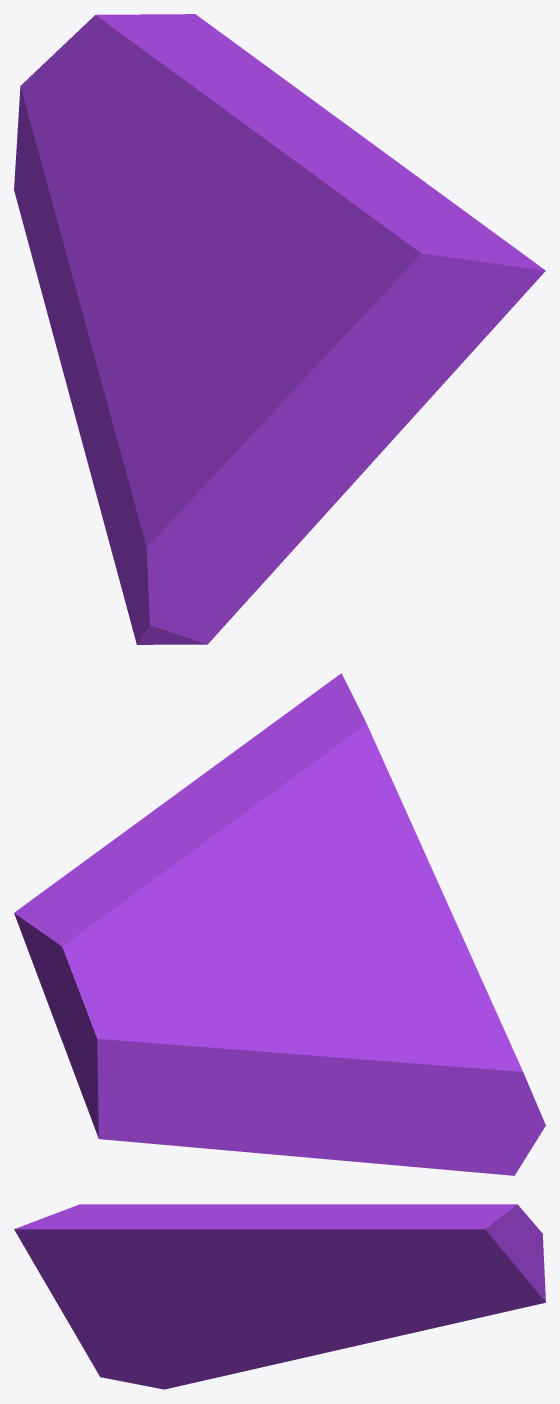
The model's file is Window_116_2_chunks.fbx.
3 views of the same model, one above another, from view 1: azimuth 30°, elevation 25°; view 2: azimuth 150°, elevation 25°; view 3: azimuth 270°, elevation 25° (orthographic). The views are drawn at different scales.
Visible parts, largest first — view 1: Window_116_2_2, Window_116_2_0, Window_116_2_1, Window_116_2_3; view 2: Window_116_2_0, Window_116_2_2, Window_116_2_1, Window_116_2_3; view 3: Window_116_2_3, Window_116_2_2, Window_116_2_1, Window_116_2_0.
Part boxes in pixels (box(x1,y1,x2,y2)): Window_116_2_2: box(158, 138, 545, 493); Window_116_2_0: box(14, 14, 193, 431); Window_116_2_1: box(79, 344, 343, 644); Window_116_2_3: box(133, 14, 385, 226); Window_116_2_0: box(44, 904, 376, 1158); Window_116_2_2: box(192, 673, 472, 995); Window_116_2_1: box(320, 961, 545, 1175); Window_116_2_3: box(14, 782, 271, 1002); Window_116_2_3: box(229, 1204, 509, 1311); Window_116_2_2: box(14, 1204, 291, 1317); Window_116_2_1: box(65, 1300, 342, 1389); Window_116_2_0: box(300, 1204, 545, 1348).
Size of the model in its own units: 357 by 425 by 795.
